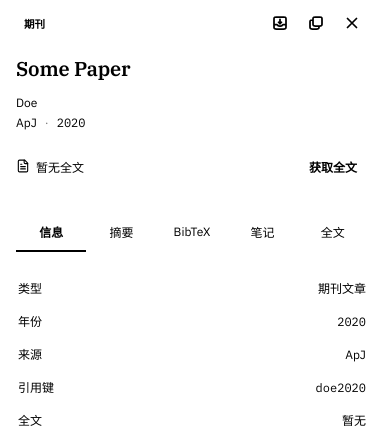
Test case: RefDetail upload tracking › ignores upload jobs targeting other works
Click the tab "全文": [333, 233] box [298,214,368,252]
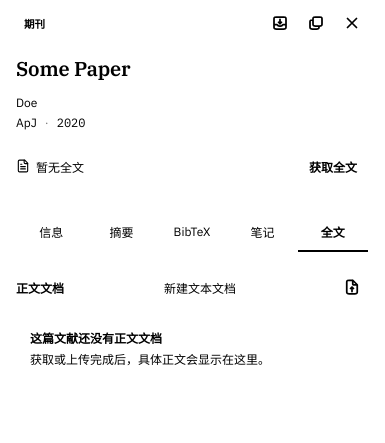
Expected: the button named "获取全文…" is enabled, [336,271,368,303]
